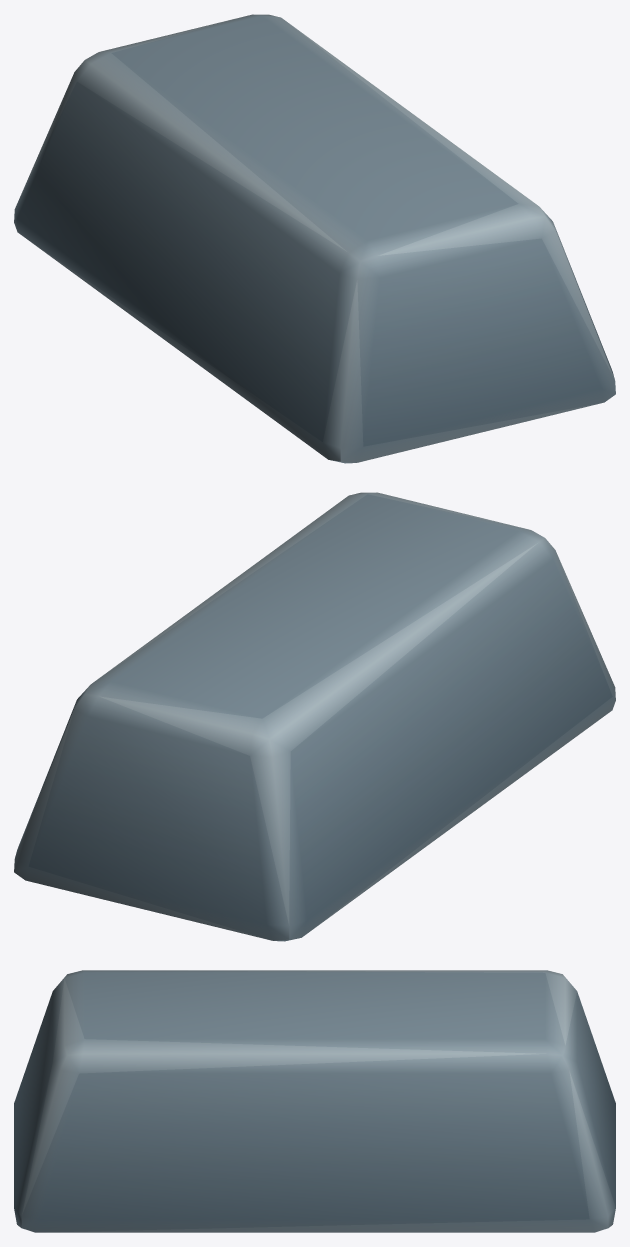
The model's file is lingot-fer.glb.
The picture shows the model from 3 angles, top to bottom: view 1: azimuth 30°, elevation 25°; view 2: azimuth 150°, elevation 25°; view 3: azimuth 270°, elevation 25°; orthographic projection. The views are drawn at different scales.
Visible parts, largest first — view 1: Iron_Bar; view 2: Iron_Bar; view 3: Iron_Bar.
Part boxes in pixels (x1=…): Iron_Bar: x1=14, y1=14, x2=615, y2=463; Iron_Bar: x1=14, y1=492, x2=615, y2=941; Iron_Bar: x1=14, y1=970, x2=615, y2=1232.
Size of the model in its own units: 0.4 by 0.25 by 0.8.
1 material, 1 textured.
